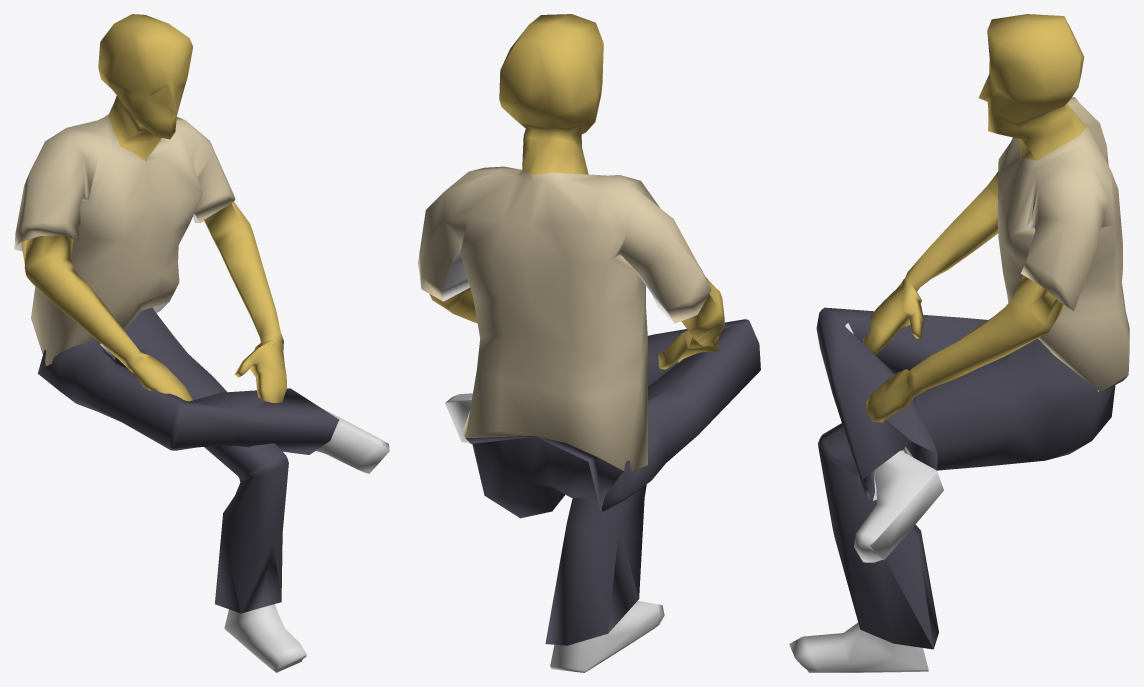
File: sitting_ma.fbx
3 views of the same model, side by side, from view 1: azimuth 30°, elevation 25°; view 2: azimuth 150°, elevation 25°; view 3: azimuth 270°, elevation 25° (orthographic). The views are drawn at different scales.
Parts seen in each view (by area): view 1: G_3d_man1; view 2: G_3d_man1; view 3: G_3d_man1.
Boxes of the visible parts, x1,y1,x2,y2 form: G_3d_man1: [14, 14, 389, 672]; G_3d_man1: [418, 14, 760, 672]; G_3d_man1: [789, 14, 1129, 672].
Size of the model in its own units: 30.76 by 57.41 by 28.35.
